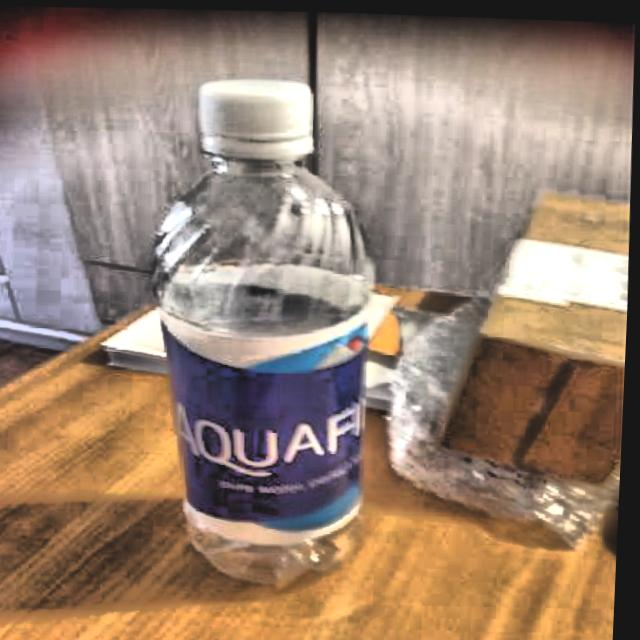Bottles: (132, 60, 421, 608)
